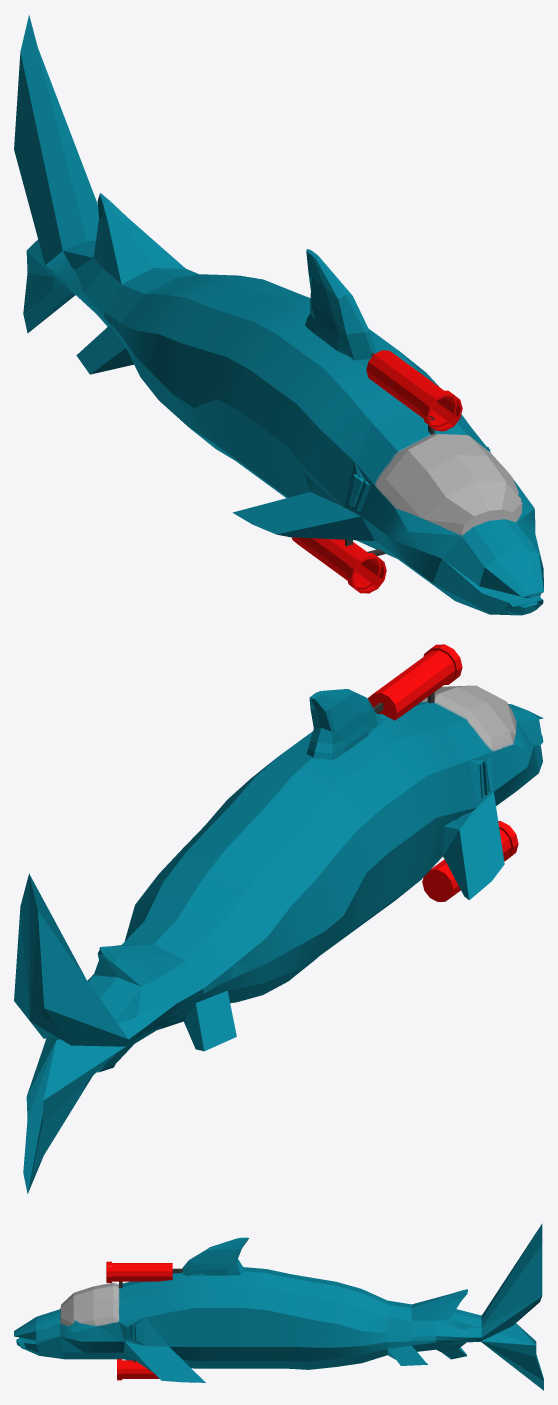
Rendered from Shark.fbx.
3 renders of one model, top to bottom at view 1: azimuth 30°, elevation 25°; view 2: azimuth 150°, elevation 25°; view 3: azimuth 270°, elevation 25°, orthographic. The views are drawn at different scales.
Parts seen in each view (by area): view 1: pCylinder3; view 2: pCylinder3; view 3: pCylinder3.
Boxes of the visible parts, x1,y1,x2,y2 form: pCylinder3: (14,15,543,615); pCylinder3: (14,644,543,1193); pCylinder3: (14,1223,543,1390).
Size of the model in its own units: 105 by 128 by 366.
